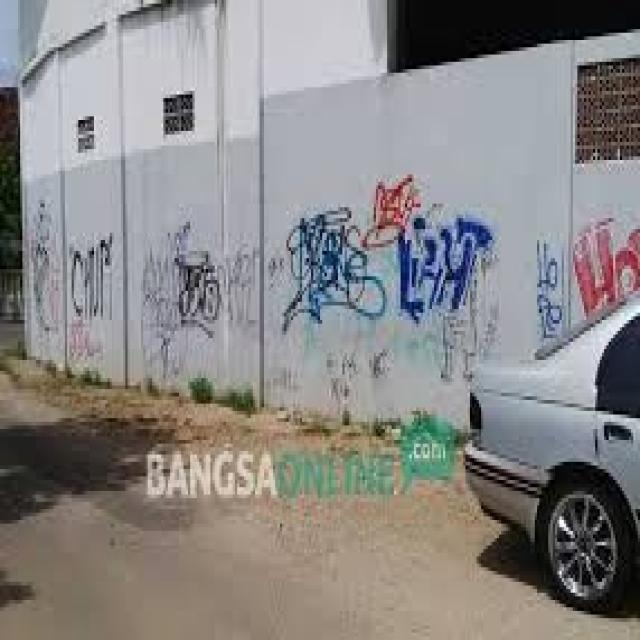-: (282, 208, 388, 330), (396, 208, 496, 324), (438, 252, 498, 386), (138, 218, 188, 378), (571, 217, 640, 314), (71, 232, 117, 322), (174, 254, 222, 340), (361, 180, 420, 249), (31, 202, 60, 331), (534, 238, 561, 342), (227, 244, 260, 326), (326, 351, 356, 418), (69, 323, 98, 363), (267, 254, 286, 292), (371, 348, 394, 378)
